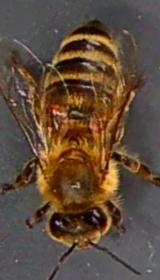varroa_mite: (42, 98, 72, 124)
